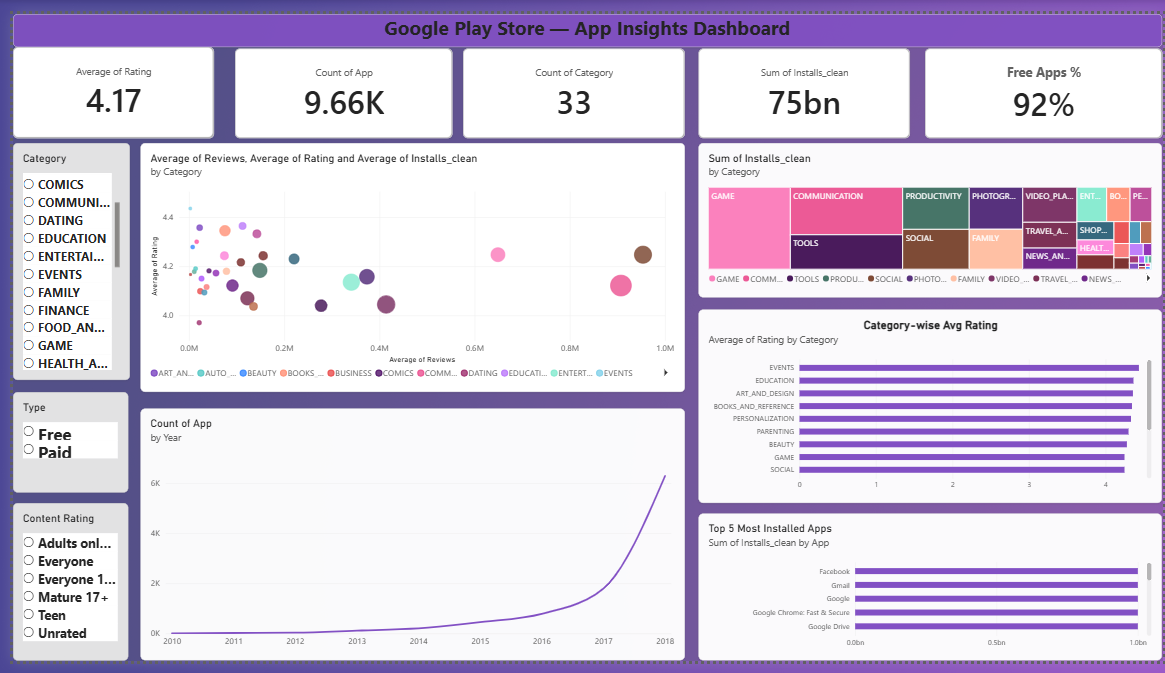

The dashboard page shown, as its layout file describes it:
{"tool":"powerbi","page":{"name":" App Insights Dashboard","canvas":[1920,1080],"ordinal":0},"visuals":[{"type":"textbox","box":[0,0,1919.2,55.1],"z":0},{"type":"cardVisual","fields":{"Data":["Avg(googleplaystore_cleaned.Rating)"]},"box":[0,55.1,335.7,152.8],"z":1000},{"type":"cardVisual","fields":{"Data":["CountNonNull(googleplaystore_cleaned.App)"]},"box":[370.3,58.1,363,150.1],"z":2000},{"type":"cardVisual","fields":{"Data":["Count(googleplaystore_cleaned.Category)"]},"box":[751.6,57.6,370.8,150.3],"z":3000},{"type":"cardVisual","fields":{"Data":["Sum(googleplaystore_cleaned.Installs_clean)"]},"box":[1145,57.6,353.3,150.3],"z":4000},{"type":"cardVisual","fields":{"Data":["googleplaystore_cleaned.Free Apps %"]},"box":[1522.3,58.1,396.9,150.1],"z":5000},{"type":"listSlicer","fields":{"Values":["googleplaystore_cleaned.Category"]},"box":[0,215.5,195.4,395.9],"z":6000},{"type":"listSlicer","fields":{"Values":["googleplaystore_cleaned.Type"]},"box":[0,631.4,192.9,167.9],"z":6001},{"type":"listSlicer","fields":{"Values":["googleplaystore_cleaned.Content Rating"]},"box":[0,816.8,192.9,263.1],"z":6002},{"type":"clusteredBarChart","title":"Category-wise Avg Rating","fields":{"Category":["googleplaystore_cleaned.Category"],"Y":["Avg(googleplaystore_cleaned.Rating)"]},"box":[1145,493.6,774.2,323.2],"z":6003},{"type":"treemap","fields":{"Group":["googleplaystore_cleaned.Category"],"Values":["Sum(googleplaystore_cleaned.Installs_clean)"]},"box":[1145,215.5,774.2,258.1],"z":6004},{"type":"scatterChart","fields":{"X":["Avg(googleplaystore_cleaned.Reviews)"],"Y":["Avg(googleplaystore_cleaned.Rating)"],"Size":["Avg(googleplaystore_cleaned.Installs_clean)"],"Series":["googleplaystore_cleaned.Category"]},"box":[213,215.5,909.5,415.9],"z":6005},{"type":"lineChart","fields":{"Category":["googleplaystore_cleaned.Last Updated.Variation.Date Hierarchy.Year","googleplaystore_cleaned.Last Updated.Variation.Date Hierarchy.Quarter","googleplaystore_cleaned.Last Updated.Variation.Date Hierarchy.Month"],"Y":["CountNonNull(googleplaystore_cleaned.App)"]},"box":[213,658.9,909.5,420.9],"z":6006},{"type":"clusteredBarChart","title":"Top 5 Most Installed Apps","fields":{"Category":["googleplaystore_cleaned.App"],"Y":["Sum(googleplaystore_cleaned.Installs_clean)"]},"box":[1145,834.3,774.2,245.5],"z":6007}]}

Visuals, with their boxes in screenshot pixels (x1, y1, x2, y2), scaled from the page's 1920x1080 canvas onto the 1165x673 screenshot:
textbox: 0,0,1164,34
cardVisual - Avg(googleplaystore_cleaned.Rating): 0,34,204,130
cardVisual - CountNonNull(googleplaystore_cleaned.App): 225,36,445,130
cardVisual - Count(googleplaystore_cleaned.Category): 456,36,681,130
cardVisual - Sum(googleplaystore_cleaned.Installs_clean): 695,36,909,130
cardVisual - googleplaystore_cleaned.Free Apps %: 924,36,1164,130
listSlicer - googleplaystore_cleaned.Category: 0,134,119,381
listSlicer - googleplaystore_cleaned.Type: 0,393,117,498
listSlicer - googleplaystore_cleaned.Content Rating: 0,509,117,672
"Category-wise Avg Rating" clusteredBarChart: 695,308,1164,509
treemap - googleplaystore_cleaned.Category x Sum(googleplaystore_cleaned.Installs_clean): 695,134,1164,295
scatterChart - Avg(googleplaystore_cleaned.Reviews) x Avg(googleplaystore_cleaned.Rating): 129,134,681,393
lineChart - googleplaystore_cleaned.Last Updated.Variation.Date Hierarchy.Year x googleplaystore_cleaned.Last Updated.Variation.Date Hierarchy.Quarter: 129,411,681,672
"Top 5 Most Installed Apps" clusteredBarChart: 695,520,1164,672
